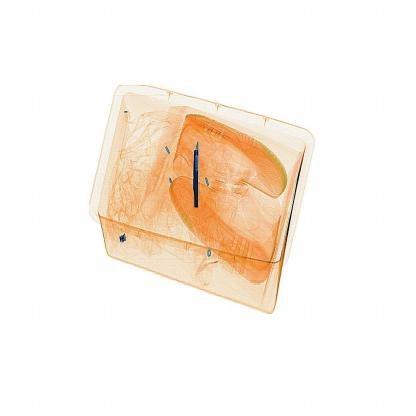pliers: (184, 136, 214, 212)
